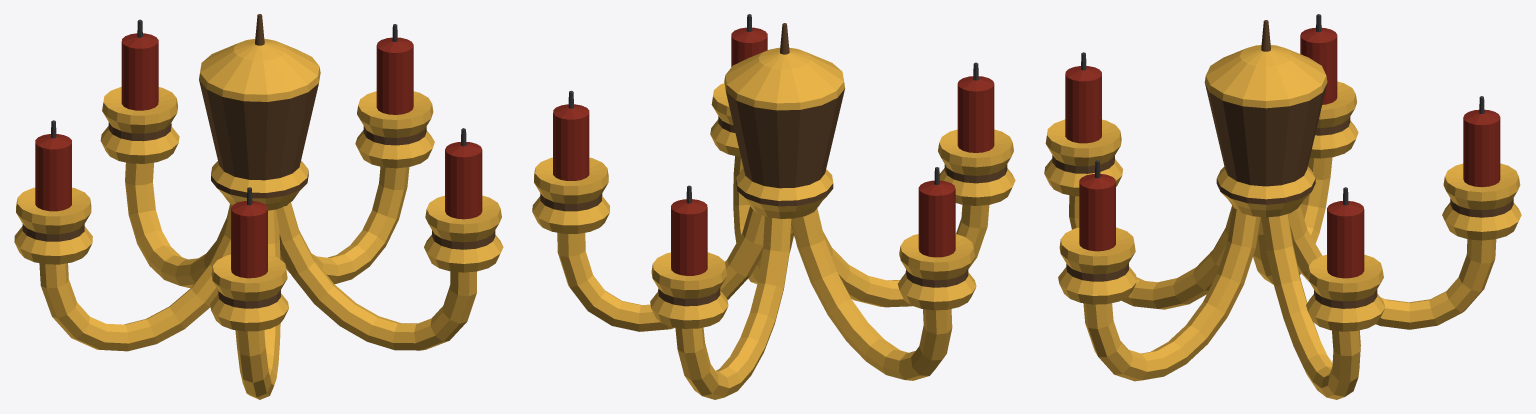
Rendered from chandelier-pieces.fbx.
The picture shows the model from 3 angles, left to right: view 1: azimuth 30°, elevation 25°; view 2: azimuth 150°, elevation 25°; view 3: azimuth 270°, elevation 25°; orthographic projection.
Parts seen in each view (by area): view 1: chandelier-center, chandelier-legs.004, chandelier-legs.002, chandelier-legs.001, chandelier-legs.005, chandelier-legs.003, candle1, candle5, candle4, candle2, candle3; view 2: chandelier-center, chandelier-legs.002, chandelier-legs.001, chandelier-legs.005, chandelier-legs.003, candle3, candle2, candle1, candle5, chandelier-legs.004, candle4; view 3: chandelier-center, chandelier-legs.004, chandelier-legs.005, chandelier-legs.001, chandelier-legs.003, chandelier-legs.002, candle5, candle1, candle3, candle4, candle2.
Part boxes in pixels (x1,y1,x2,y2): chandelier-center: [199, 14, 320, 210]; chandelier-legs.004: [276, 195, 503, 350]; chandelier-legs.002: [14, 187, 232, 351]; chandelier-legs.001: [100, 87, 231, 287]; chandelier-legs.005: [280, 91, 434, 284]; chandelier-legs.003: [210, 209, 288, 399]; candle1: [121, 19, 158, 110]; candle5: [376, 24, 413, 114]; candle4: [445, 128, 482, 219]; candle2: [35, 120, 71, 211]; candle3: [231, 187, 267, 278]; chandelier-center: [724, 23, 845, 218]; chandelier-legs.002: [791, 208, 976, 380]; chandelier-legs.001: [650, 216, 791, 399]; chandelier-legs.005: [532, 157, 764, 331]; chandelier-legs.003: [791, 129, 1015, 307]; candle3: [957, 62, 994, 152]; candle2: [918, 167, 955, 257]; candle1: [671, 185, 707, 275]; candle5: [553, 90, 589, 180]; chandelier-legs.004: [710, 83, 793, 283]; candle4: [731, 14, 767, 66]; chandelier-center: [1204, 20, 1327, 217]; chandelier-legs.004: [1058, 207, 1260, 381]; chandelier-legs.005: [1261, 214, 1385, 399]; chandelier-legs.001: [1288, 163, 1521, 329]; chandelier-legs.003: [1044, 119, 1232, 309]; chandelier-legs.002: [1253, 81, 1358, 284]; candle5: [1327, 187, 1364, 278]; candle1: [1463, 96, 1500, 187]; candle3: [1065, 52, 1101, 143]; candle4: [1079, 160, 1115, 251]; candle2: [1300, 14, 1337, 104].
Size of the model in its own units: 3.38 by 2.4 by 3.29.
